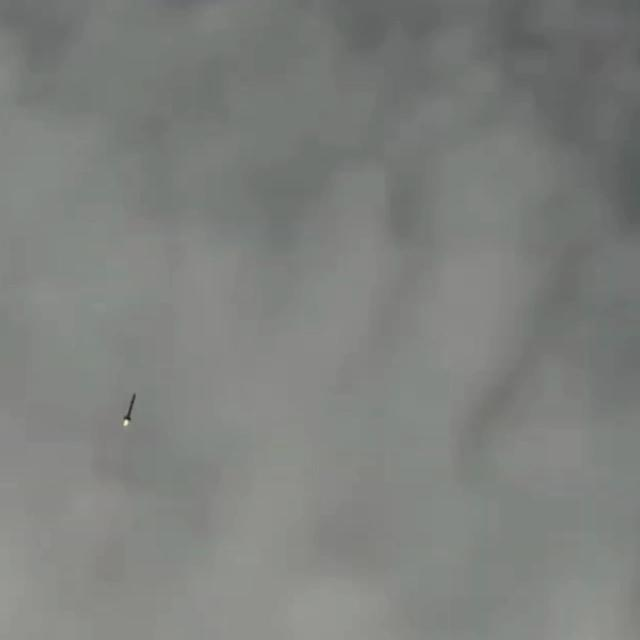smoke_trail_with_rocket: (121, 393, 136, 426)
